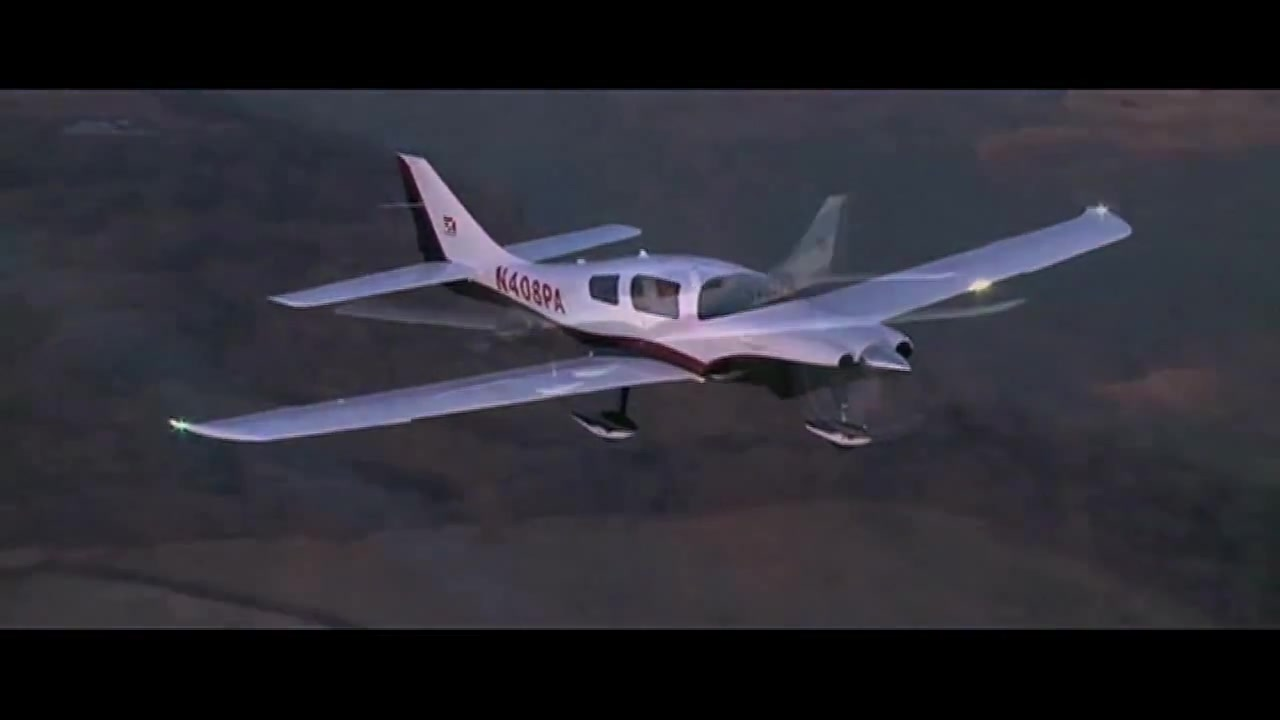aeroplane: (171, 150, 1138, 482)
